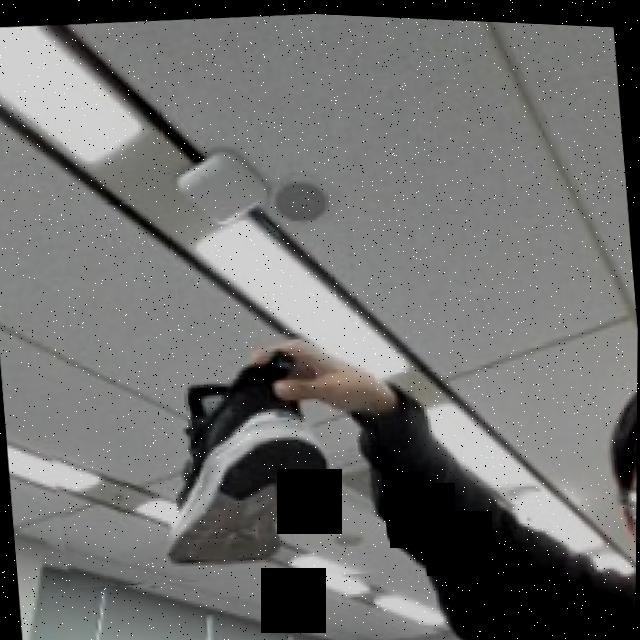shoe: (34, 314, 392, 600)
